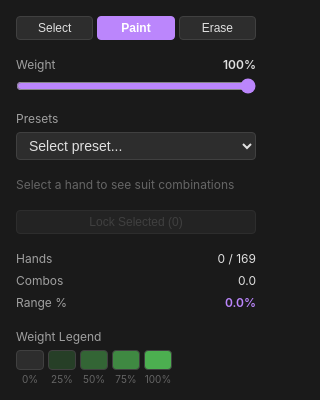
Test: RangeBuilderPage › changes weight when slider is adjusted
Set the slider with test id "weight-slider" to "50": (136, 86) [16,78,256,94]
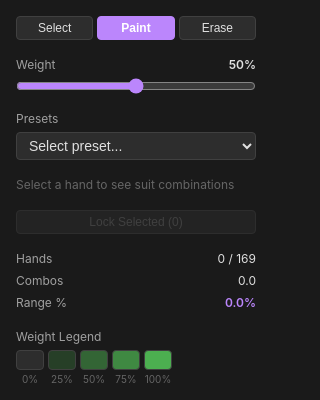
Expected: the 1st text "50%" is shown, [229,56,256,74]
